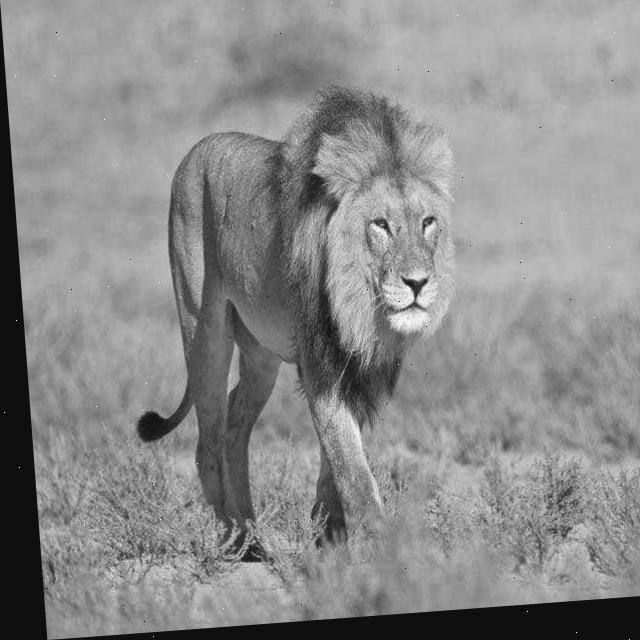Lion: (104, 0, 475, 566)
